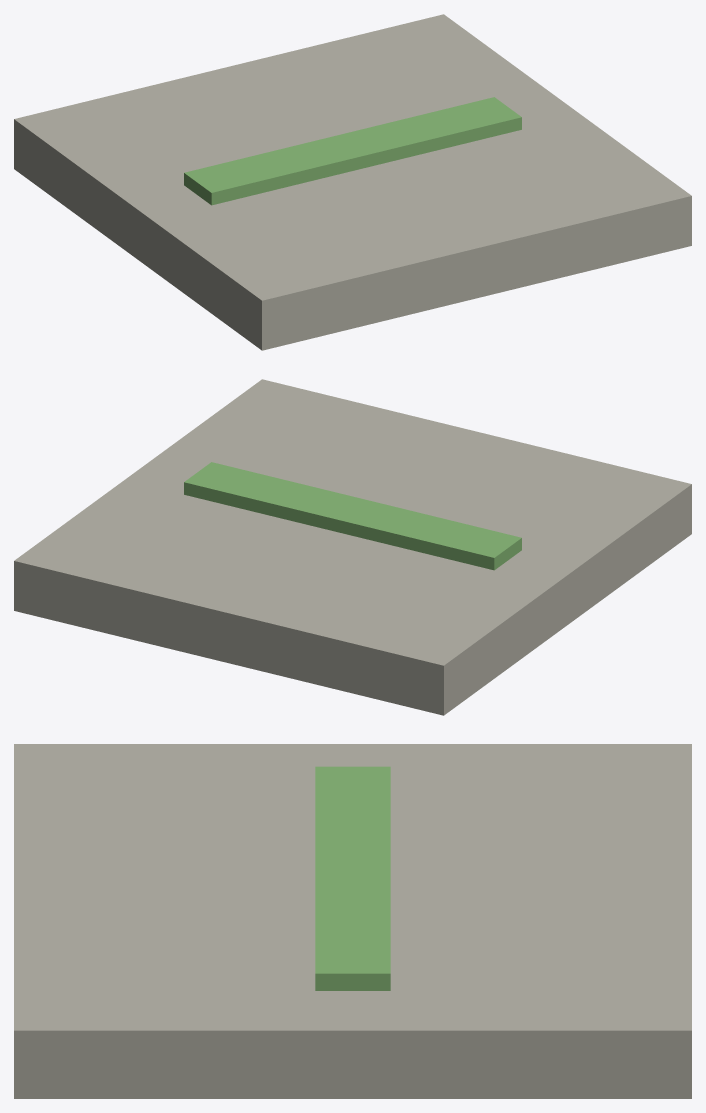
File: tile.glb
3 views of the same model, one above another, from view 1: azimuth 30°, elevation 25°; view 2: azimuth 150°, elevation 25°; view 3: azimuth 270°, elevation 25° (orthographic). The views are drawn at different scales.
Parts seen in each view (by area): view 1: tile; view 2: tile; view 3: tile.
Boxes of the visible parts, bbox=[...] form: tile: bbox=[14, 14, 691, 350]; tile: bbox=[14, 379, 691, 715]; tile: bbox=[14, 744, 691, 1098].
Size of the model in its own units: 0.72 by 0.1 by 0.72.
